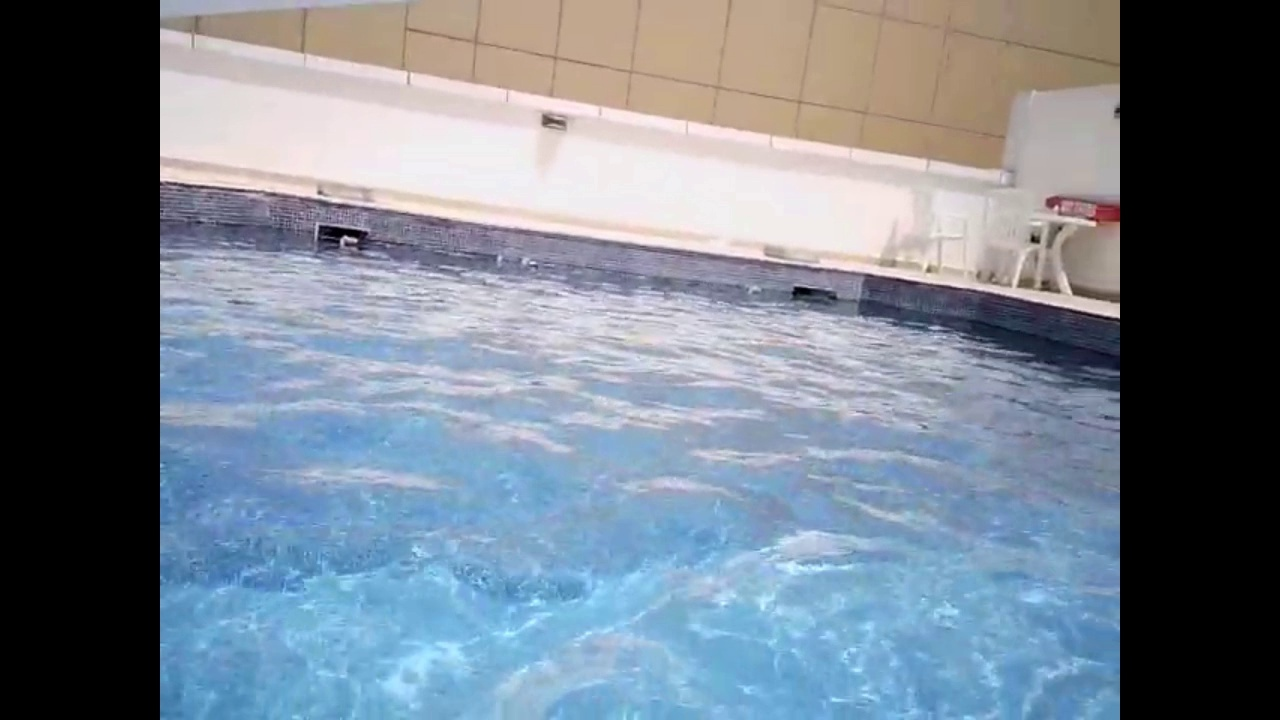debris: (513, 251, 542, 275), (338, 232, 362, 251), (741, 282, 766, 300), (493, 250, 509, 272)
